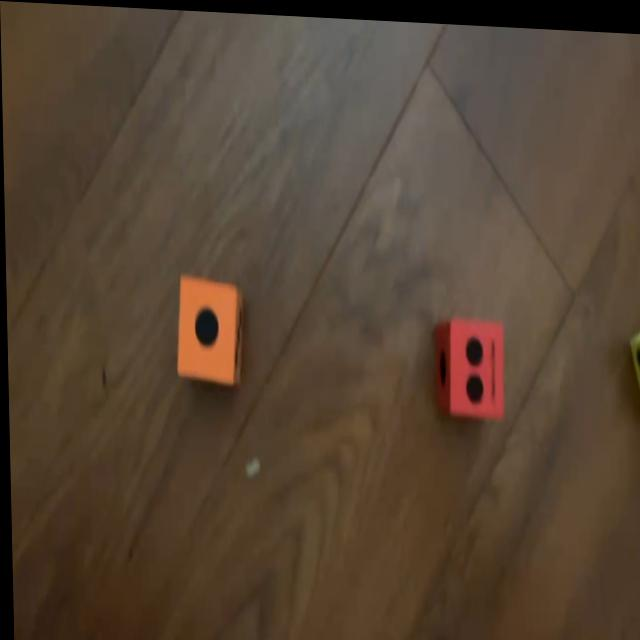red_block: (435, 314, 505, 412)
